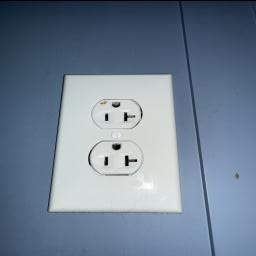outlet: (54, 70, 184, 214)
